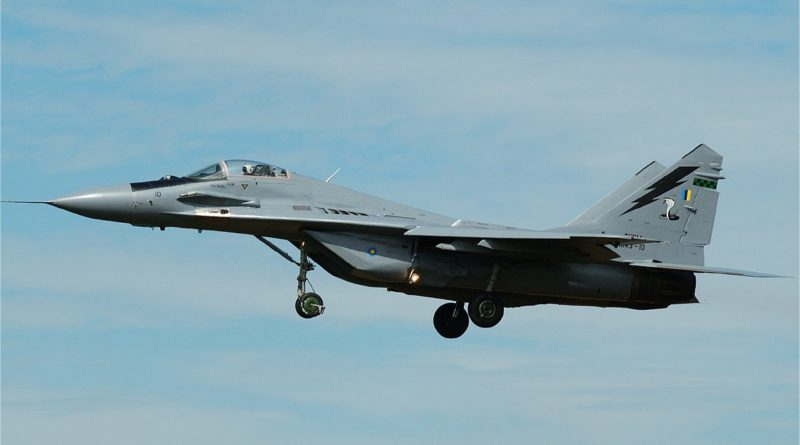Mig-29: (45, 90, 753, 347)
